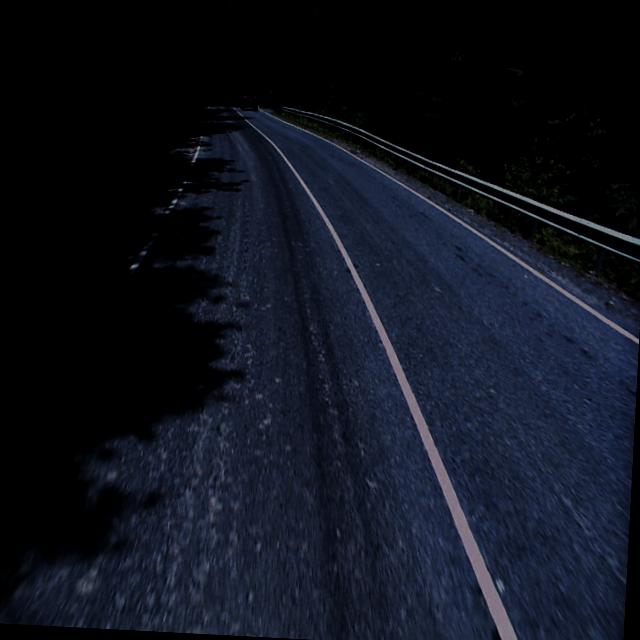road: (0, 105, 639, 640)
